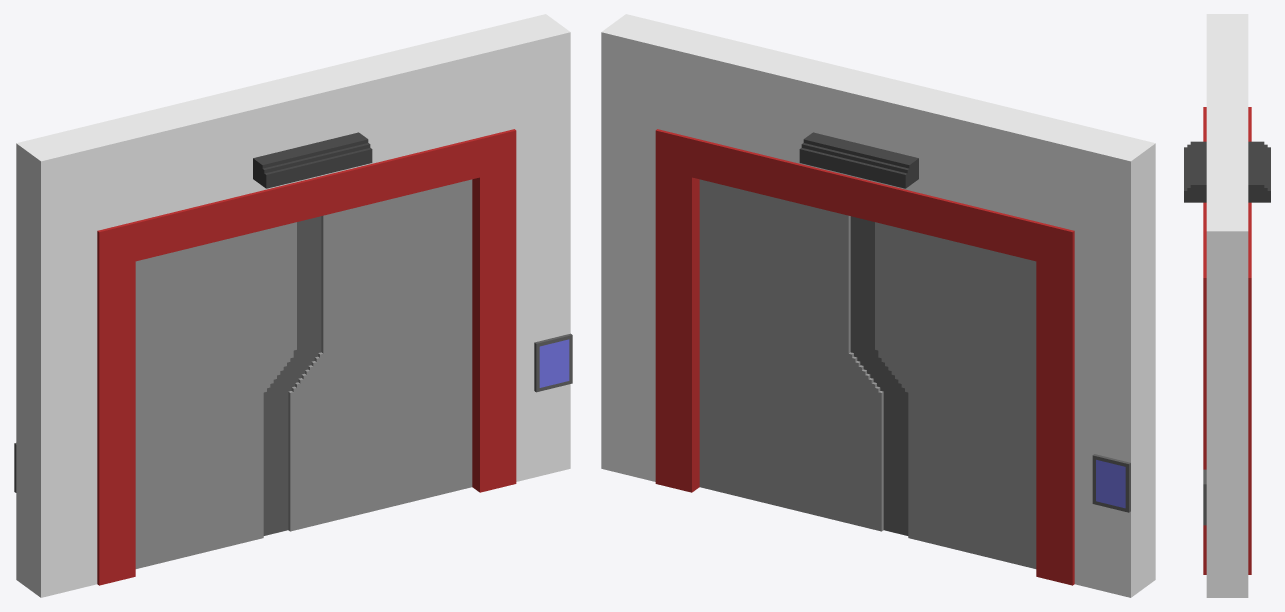
Rendered from Operating_room_Door3-2.fbx.
3 views of the same model, side by side, from view 1: azimuth 30°, elevation 25°; view 2: azimuth 150°, elevation 25°; view 3: azimuth 270°, elevation 25° (orthographic). The views are drawn at different scales.
Visible parts, largest first — view 1: Operating room Door3-2.003, Operating room Door3-2.008, Operating room Door3-2.002, Operating room Door3-2.001, Operating room Door3-2.009, Operating room Door3-2.014; view 2: Operating room Door3-2.003, Operating room Door3-2.008, Operating room Door3-2.002, Operating room Door3-2.001, Operating room Door3-2.009, Operating room Door3-2.007; view 3: Operating room Door3-2.009, Operating room Door3-2.003, Operating room Door3-2.001.
Boxes of the visible parts, left/top/right/bottom form: Operating room Door3-2.003: left=73, top=28, right=516, bottom=585; Operating room Door3-2.008: left=275, top=179, right=472, bottom=533; Operating room Door3-2.002: left=135, top=219, right=308, bottom=568; Operating room Door3-2.001: left=14, top=129, right=97, bottom=597; Operating room Door3-2.009: left=490, top=14, right=572, bottom=481; Operating room Door3-2.014: left=539, top=339, right=569, bottom=387; Operating room Door3-2.003: left=655, top=28, right=1098, bottom=585; Operating room Door3-2.008: left=699, top=179, right=896, bottom=533; Operating room Door3-2.002: left=863, top=219, right=1036, bottom=568; Operating room Door3-2.001: left=1074, top=129, right=1155, bottom=597; Operating room Door3-2.009: left=601, top=14, right=681, bottom=481; Operating room Door3-2.007: left=1096, top=459, right=1125, bottom=508; Operating room Door3-2.009: left=1203, top=208, right=1248, bottom=597; Operating room Door3-2.003: left=1184, top=37, right=1270, bottom=574; Operating room Door3-2.001: left=1206, top=14, right=1248, bottom=36.
Bounding box in the file's own units: 1600 × 1260 × 270.
